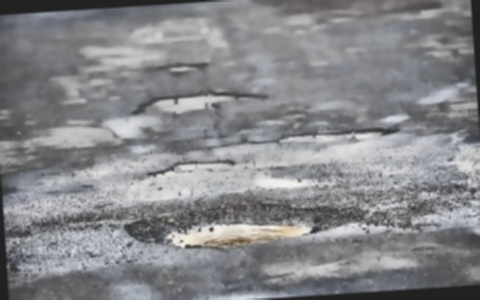pothole: (121, 192, 363, 254), (130, 87, 268, 117), (276, 124, 397, 143), (146, 158, 235, 177), (152, 60, 209, 73)
